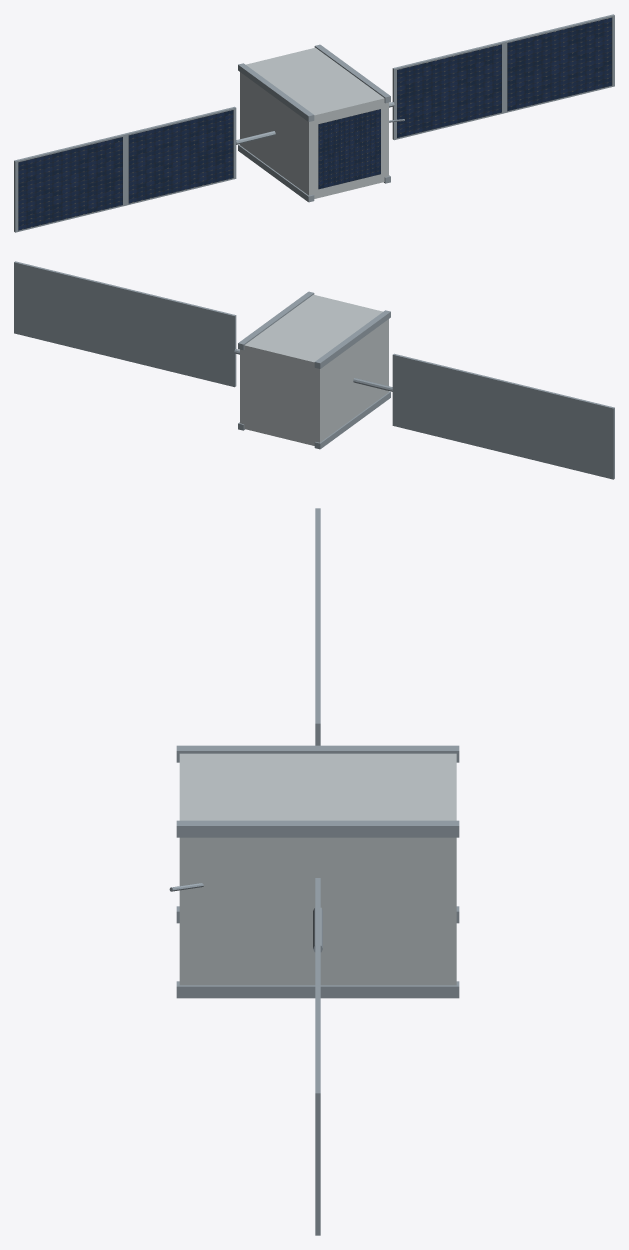
The model's file is ref-cubesat-12u-56942.glb.
3 renders of one model, top to bottom at view 1: azimuth 30°, elevation 25°; view 2: azimuth 150°, elevation 25°; view 3: azimuth 270°, elevation 25°, orthographic. The views are drawn at different scales.
Visible parts, largest first — view 1: Photovoltaic laminates (×4), Spacecraft body, Array frame (×4), Body-mounted cells, Dispenser rail (×3); view 2: Array frame (×4), Spacecraft body, Dispenser rail (×3); view 3: Spacecraft body, Dispenser rail (×3), Array frame.
Part boxes in pixels (<box>): Photovoltaic laminates (×4): <box>18,17,612,230</box>; Spacecraft body: <box>240,47,388,198</box>; Array frame (×4): <box>14,14,614,232</box>; Body-mounted cells: <box>318,109,380,189</box>; Dispenser rail (×3): <box>238,44,390,202</box>; Array frame (×4): <box>14,261,614,479</box>; Spacecraft body: <box>240,294,388,445</box>; Dispenser rail (×3): <box>238,291,390,449</box>; Spacecraft body: <box>179,753,456,985</box>; Dispenser rail (×3): <box>176,745,459,998</box>; Array frame: <box>315,985,320,1235</box>.
Size of the model in its own units: 1.5 by 0.206 by 0.3137.
Materials: 3 (1 with a texture image).
